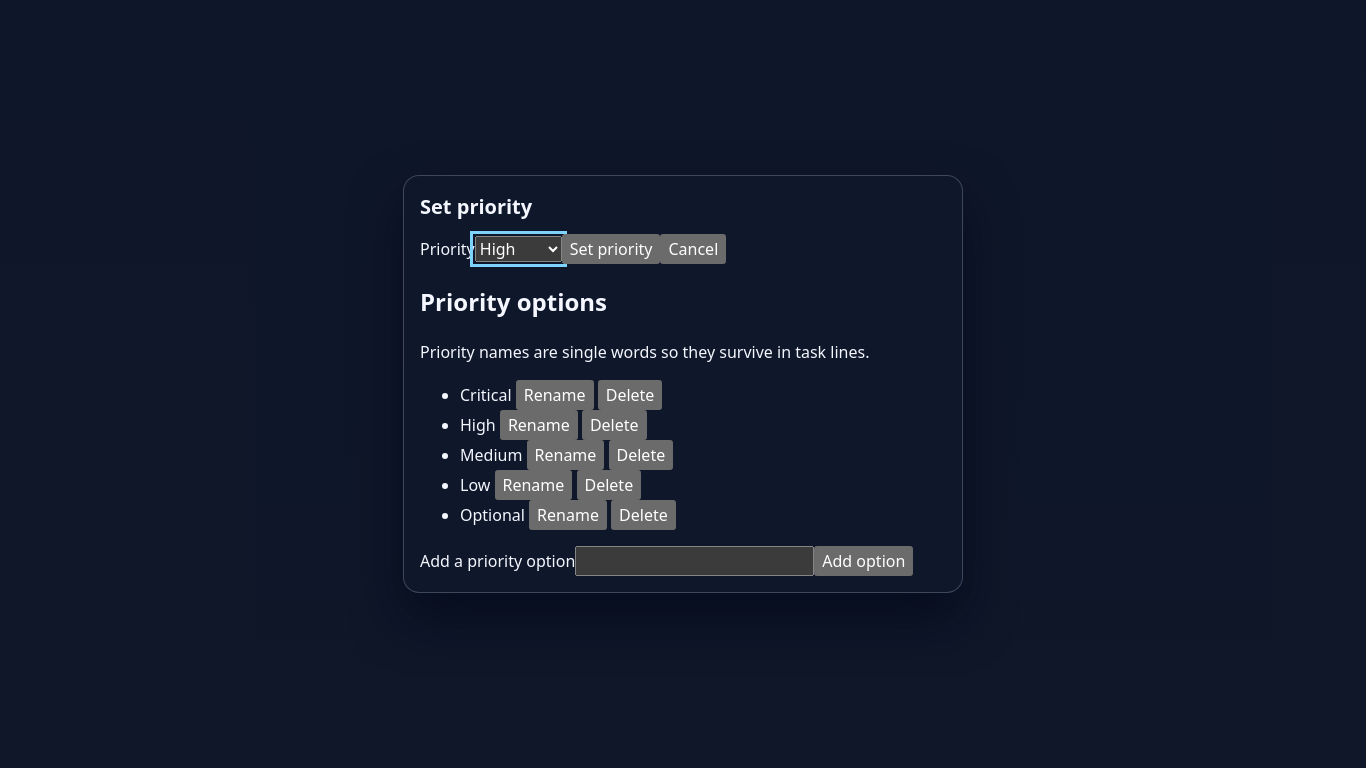
Test: task priority dialog › rejects a multi-word priority name when adding
Type "very high" into the field labelled "Add a priority option". click: (695, 561)
box: [575,546,814,576]
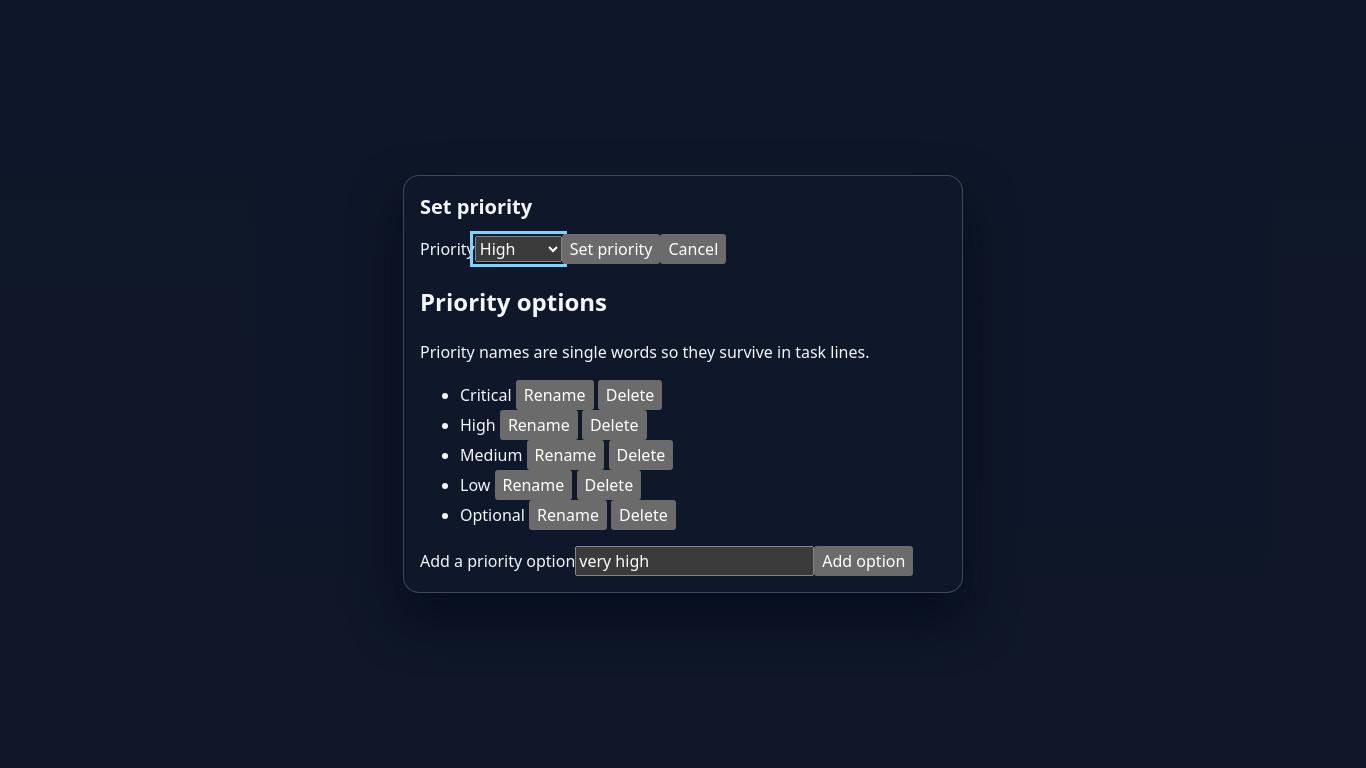
Click the button "Add option". click: (864, 561)
box: [814,546,913,576]
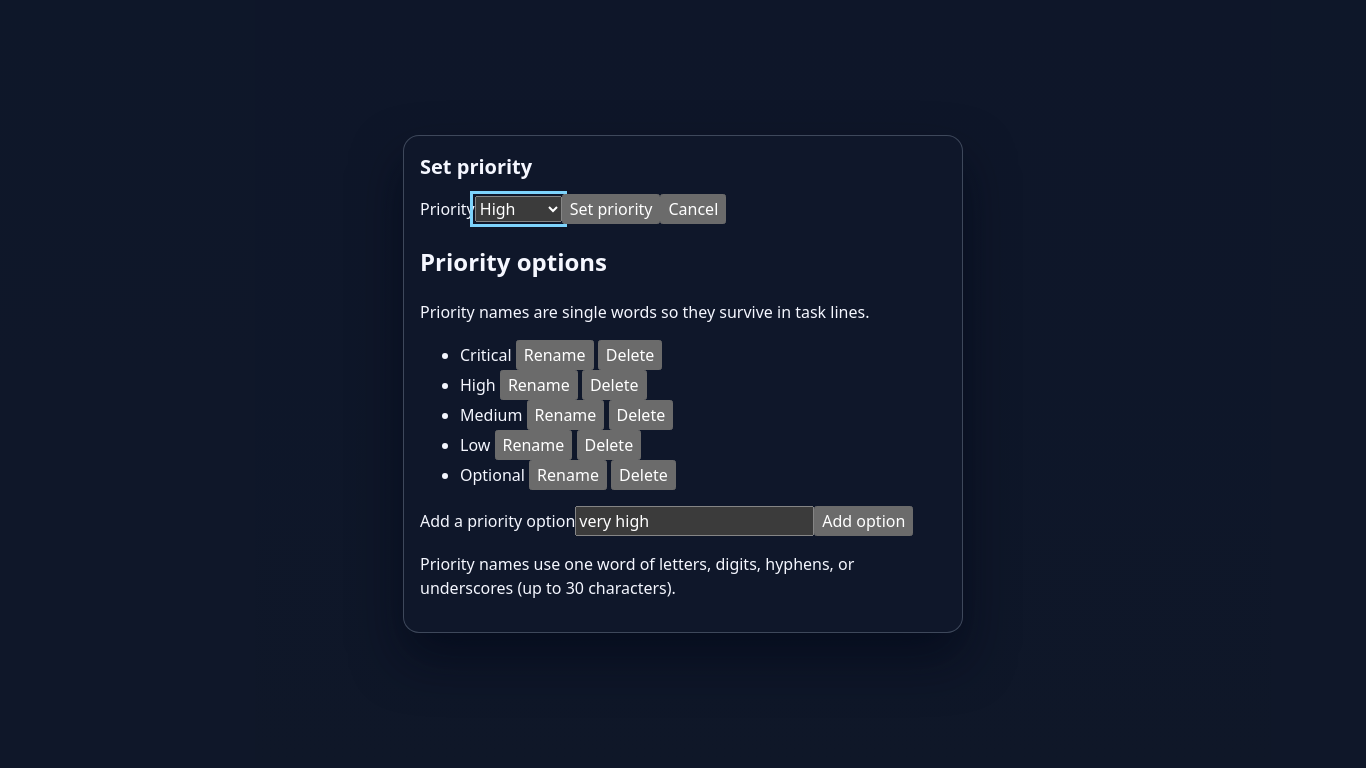
Check: the message shows "one word", box [420,553,854,599]
